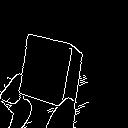cube: (18, 30, 85, 111)
